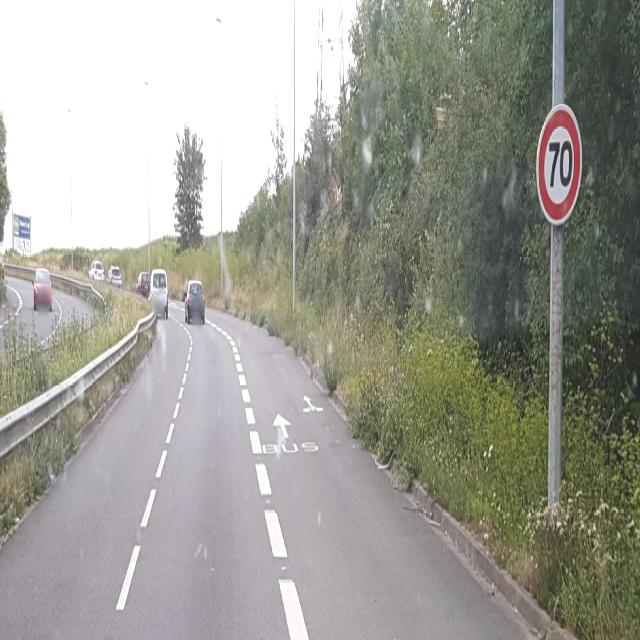speed_70: (537, 106, 581, 222)
